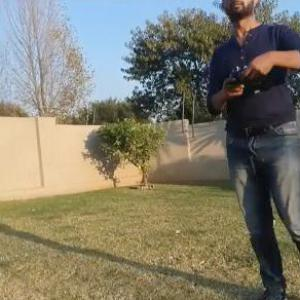follow: (205, 0, 300, 299)
